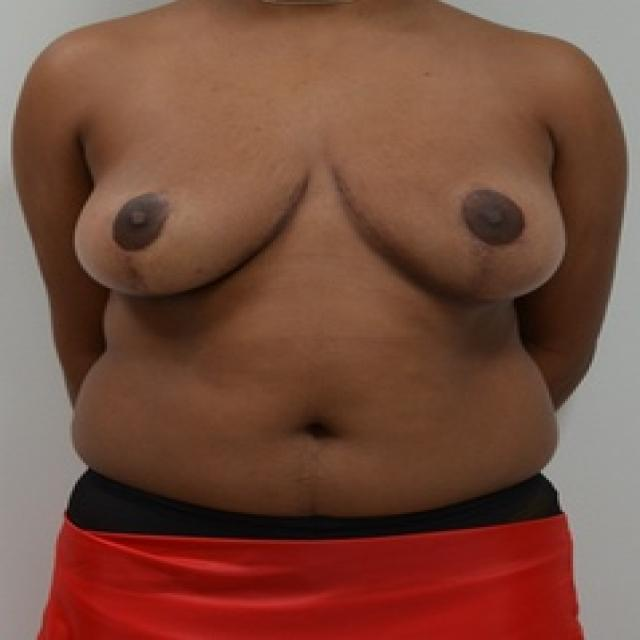Seno herido: (321, 109, 576, 321), (65, 109, 314, 321)
